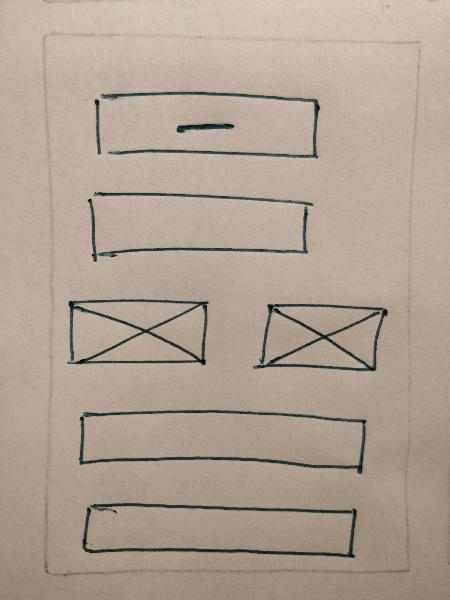button: (82, 81, 331, 168)
image: (65, 288, 212, 375), (249, 290, 396, 377)
text_input: (71, 403, 372, 478), (74, 496, 376, 563), (81, 184, 316, 268)
